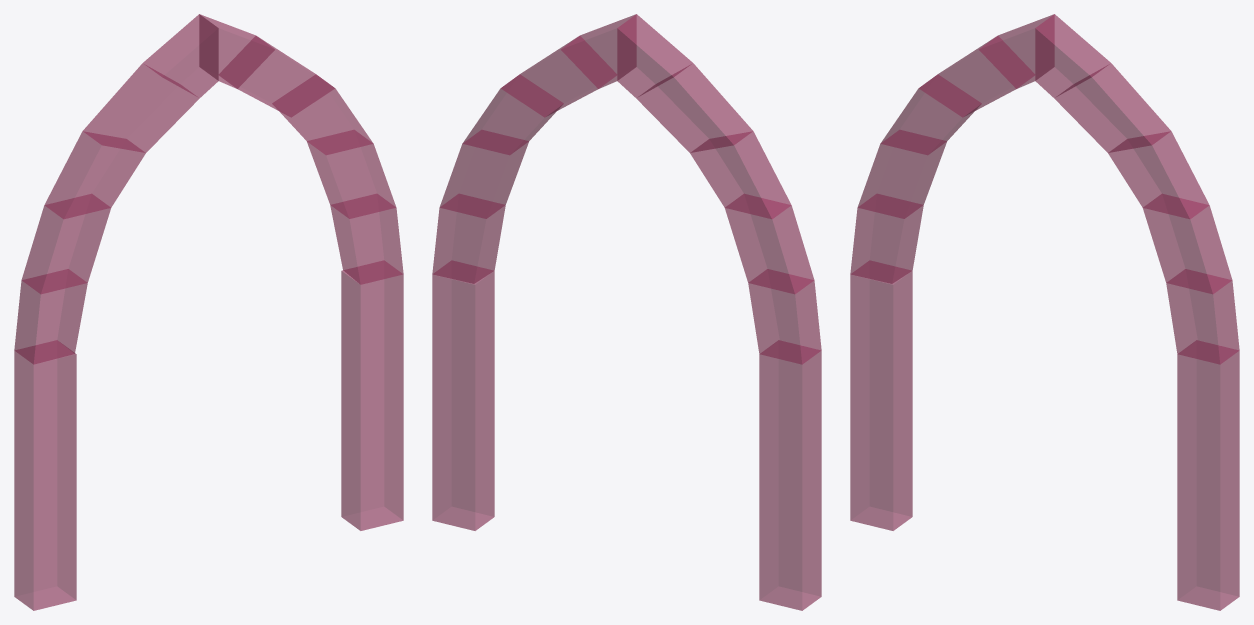
The model's file is SM_Bld_Arch_03_Collision.fbx.
The picture shows the model from 3 angles, left to right: view 1: azimuth 30°, elevation 25°; view 2: azimuth 150°, elevation 25°; view 3: azimuth 330°, elevation 25°; orthographic projection.
Visible parts, largest first — view 1: SM_Bld_Arch_03_Collision; view 2: SM_Bld_Arch_03_Collision; view 3: SM_Bld_Arch_03_Collision.
Boxes of the visible parts, <box> form: SM_Bld_Arch_03_Collision: <box>14,14,403,610</box>; SM_Bld_Arch_03_Collision: <box>432,14,821,610</box>; SM_Bld_Arch_03_Collision: <box>850,14,1239,610</box>.
Bounding box in the file's own units: 355 × 493 × 32.22.
